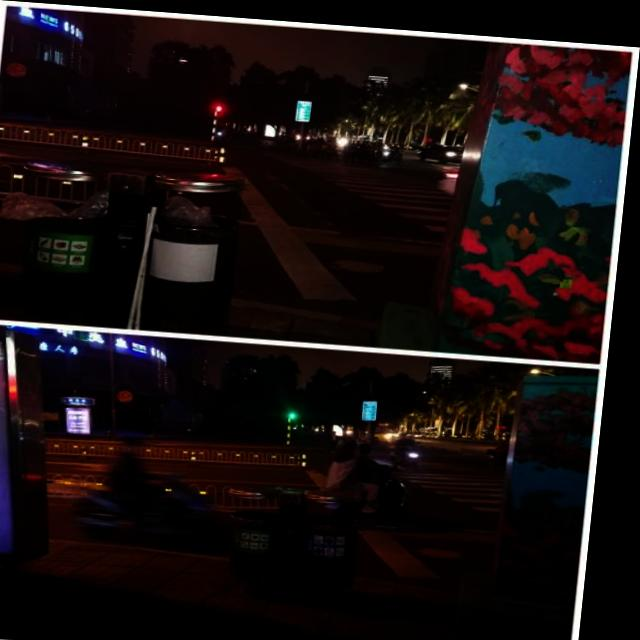garbage_bin: (228, 476, 373, 578)
overflow: (0, 155, 249, 329)
